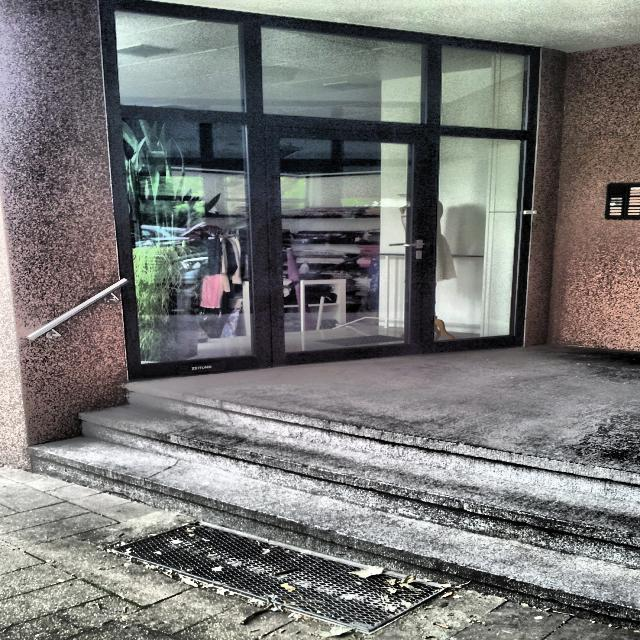escada: (23, 380, 637, 624)
